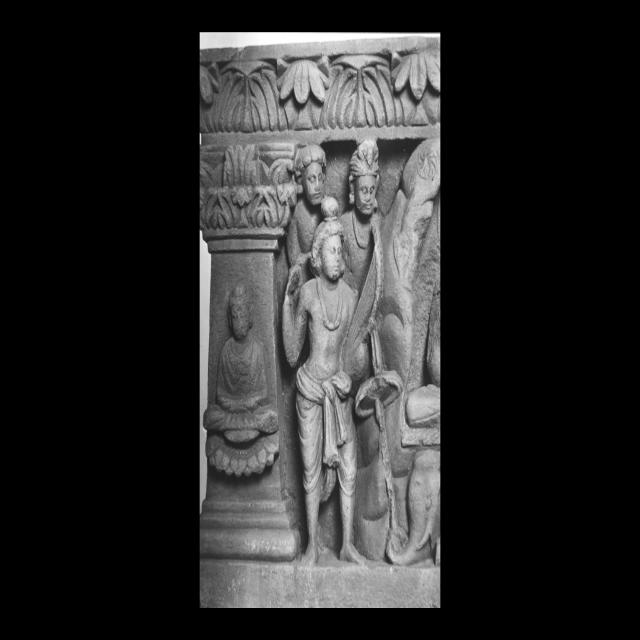buddha-sitting: (204, 284, 279, 476)
